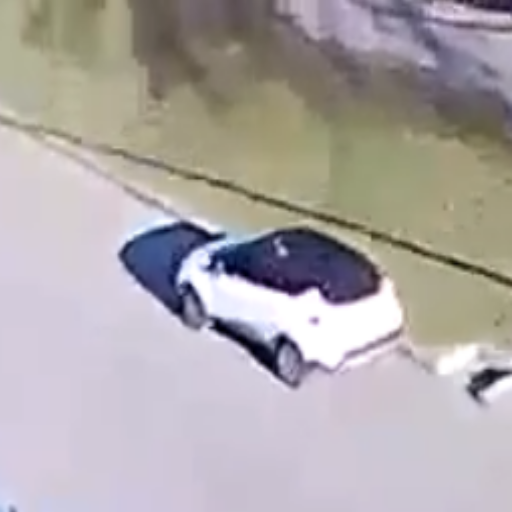Car: (175, 220, 409, 395)
